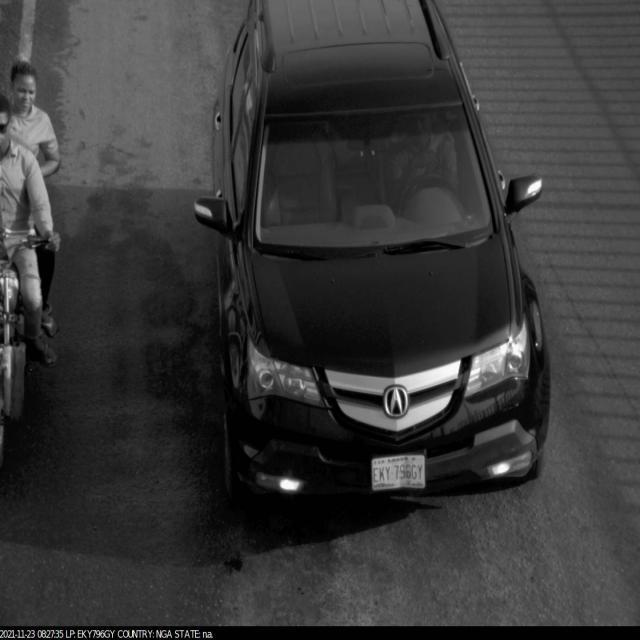windshield: (246, 90, 517, 267)
